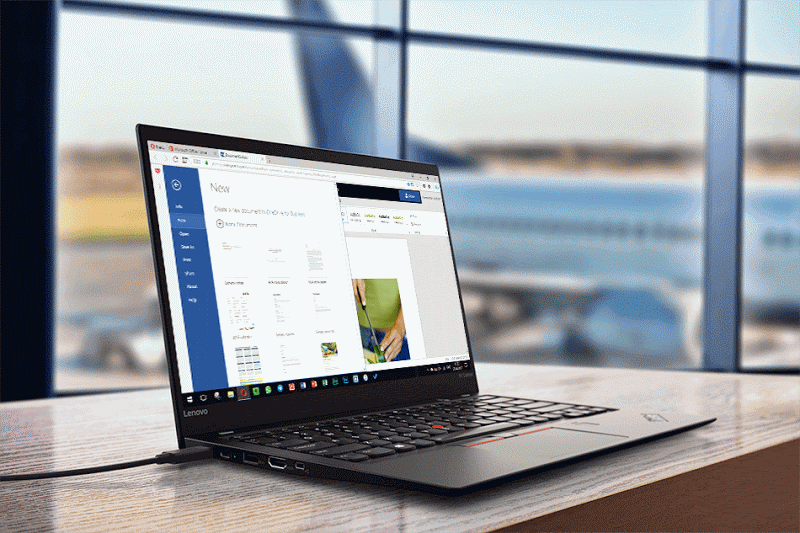Laptop: (123, 115, 726, 496)
